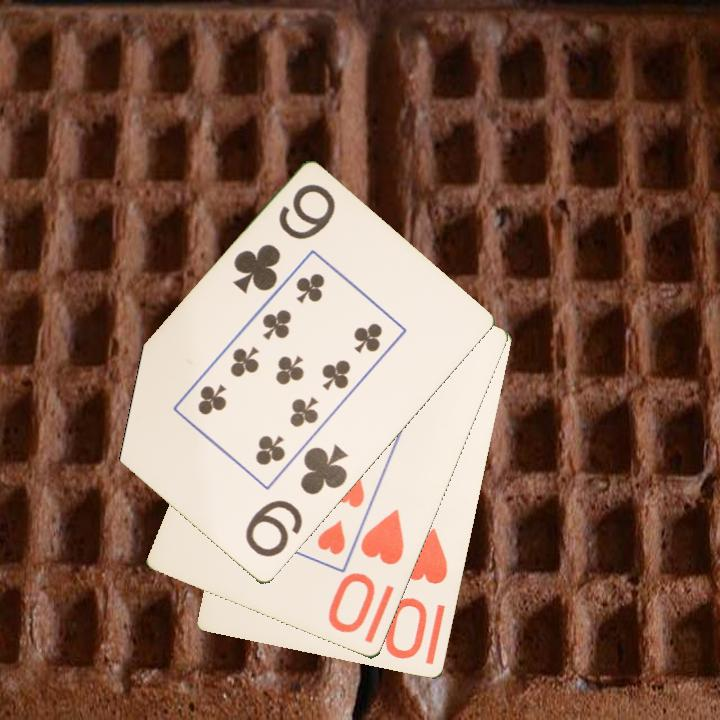10h: (325, 505, 408, 637), (384, 524, 451, 663)
9c: (241, 441, 351, 561), (229, 180, 339, 297)
